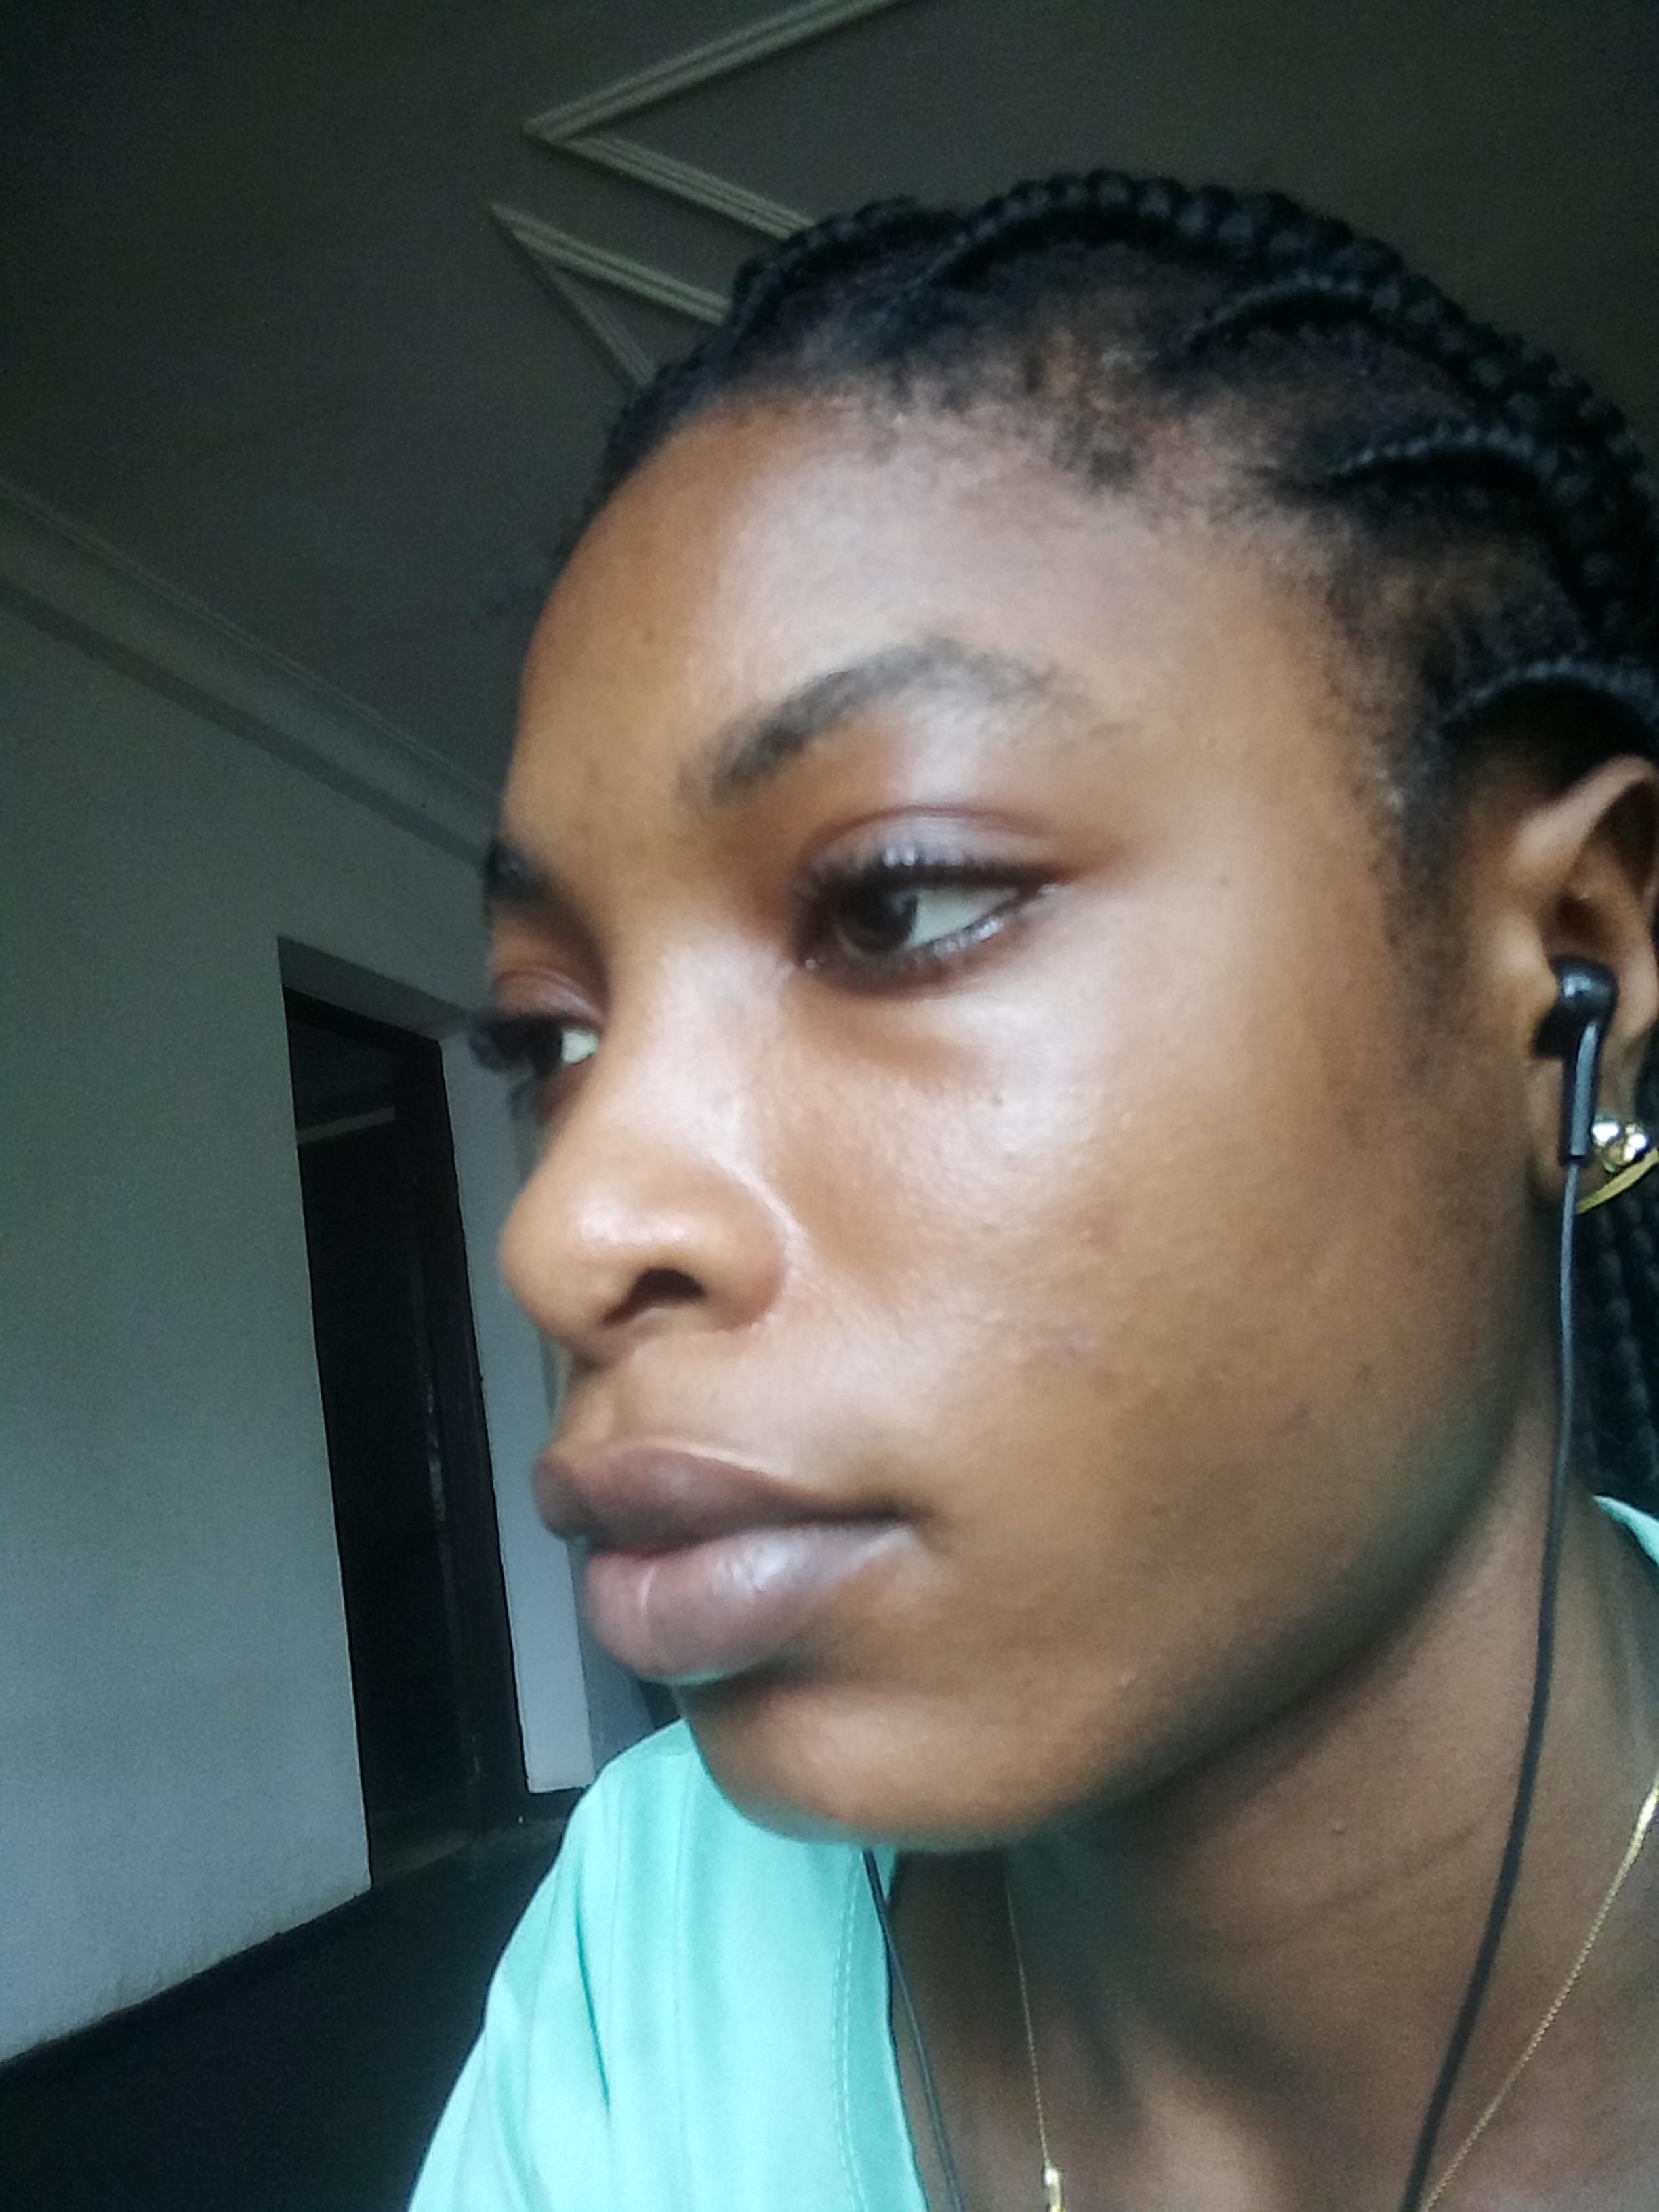Acne: (1058, 1322, 1100, 1369), (1138, 1493, 1175, 1531), (1112, 1662, 1152, 1691), (974, 1305, 1006, 1336), (1068, 1219, 1098, 1249), (983, 1083, 1011, 1108), (976, 1216, 999, 1240)
